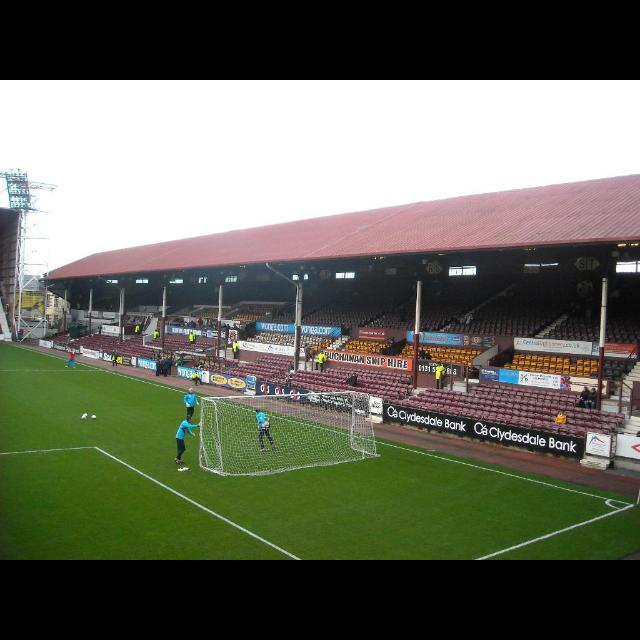Football: (258, 418, 270, 428)
